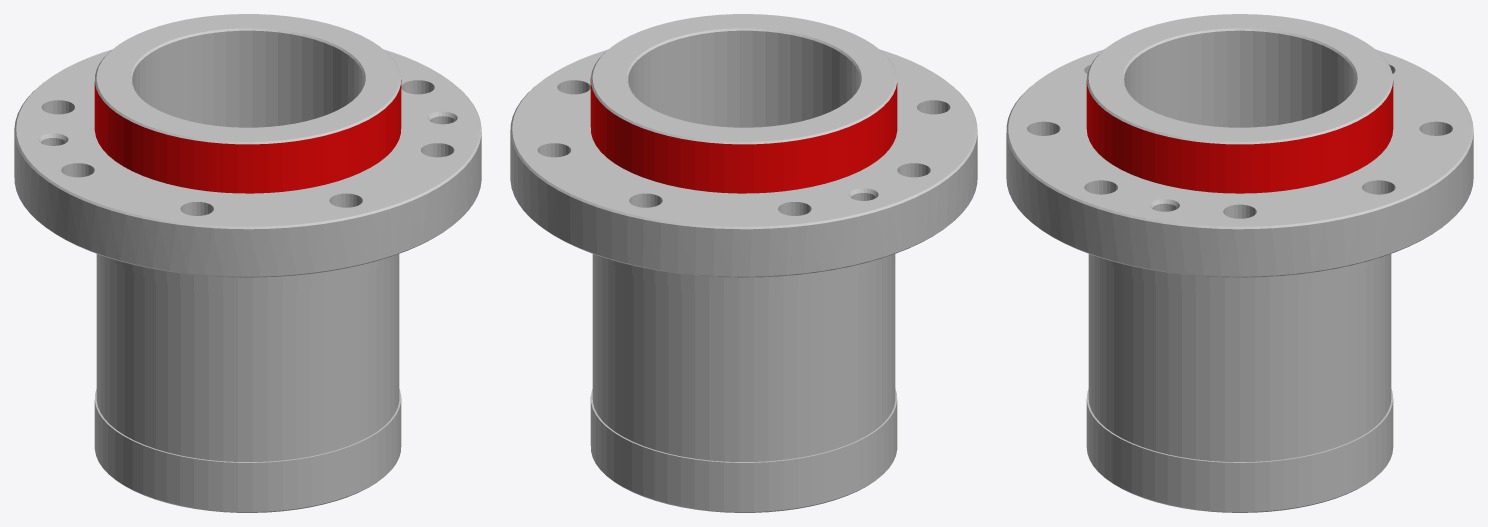
The model's file is 12_stp_6.obj.
3 views of the same model, side by side, from view 1: azimuth 30°, elevation 25°; view 2: azimuth 150°, elevation 25°; view 3: azimuth 270°, elevation 25° (orthographic).
Visible parts, largest first — view 1: Object1; view 2: Object1; view 3: Object1.
Part boxes in pixels (x1,y1,x2,y2): Object1: (14, 14, 481, 512); Object1: (510, 14, 977, 512); Object1: (1006, 14, 1473, 512).
Bounding box in the file's own units: 125 × 110 × 125.
